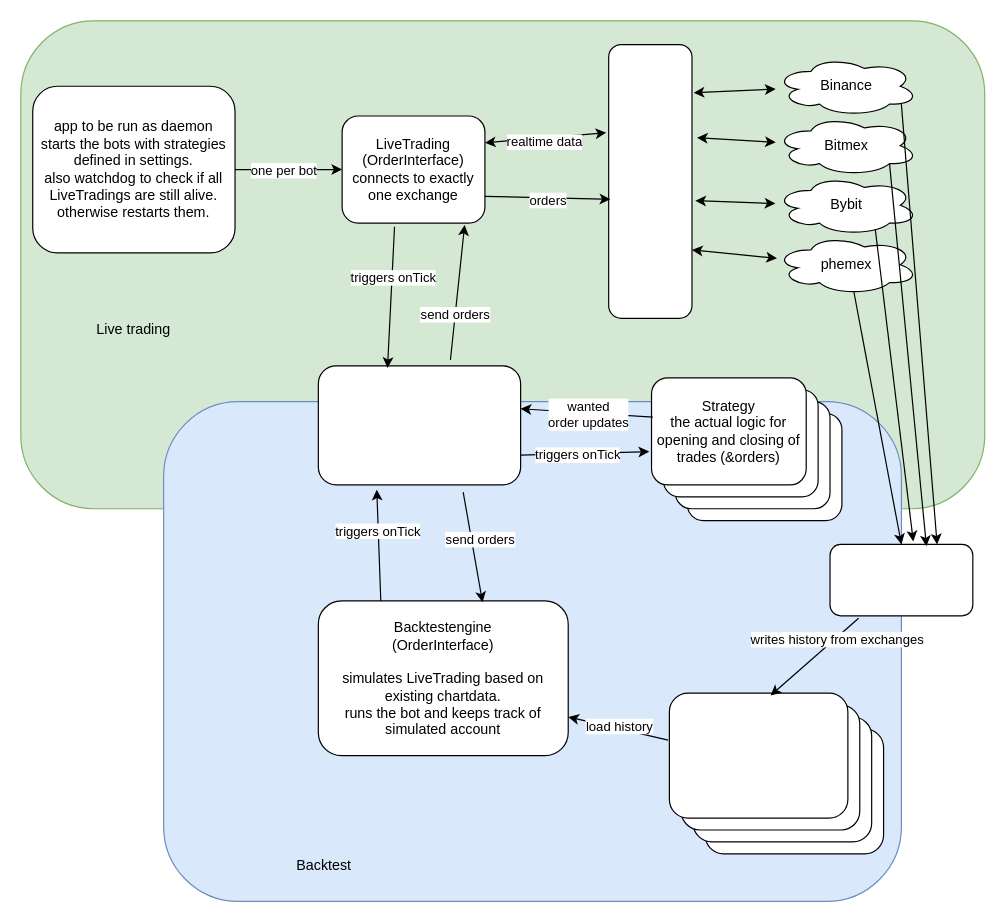
The diagram is 1006 pixels wide and 922 high, and some of its shapes have lost their labels. Here are the shapes that lost their labels. From the top down, the centre of each, then its label:
At (x=649, y=180): "ExchangeInterface one per exchange".
At (x=419, y=425): "TradingBot basically a MultiStrategyBot".
At (x=901, y=579): "history_crawler".
At (x=758, y=755): "Historydata per exchange".
